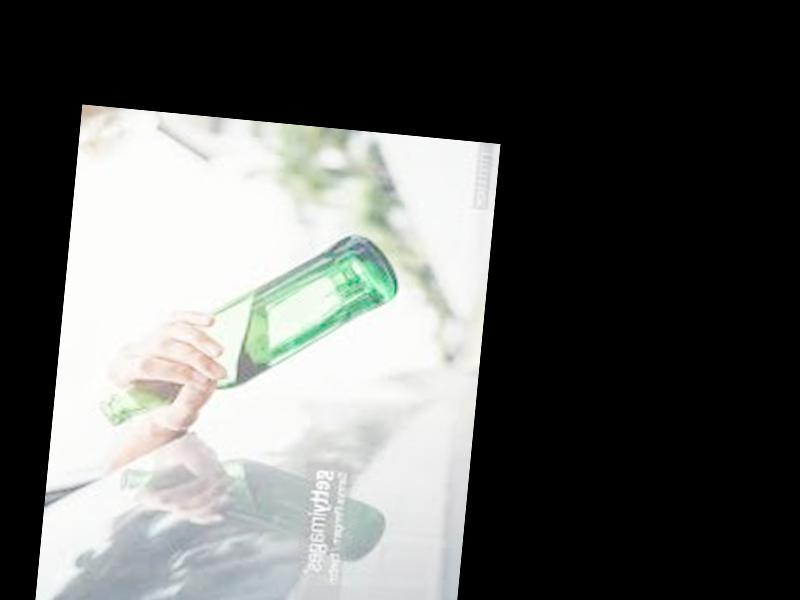Beer: (100, 214, 403, 454)
